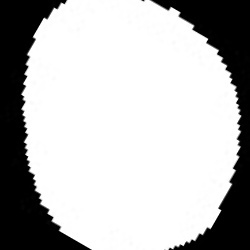spot: (21, 2, 245, 249)
